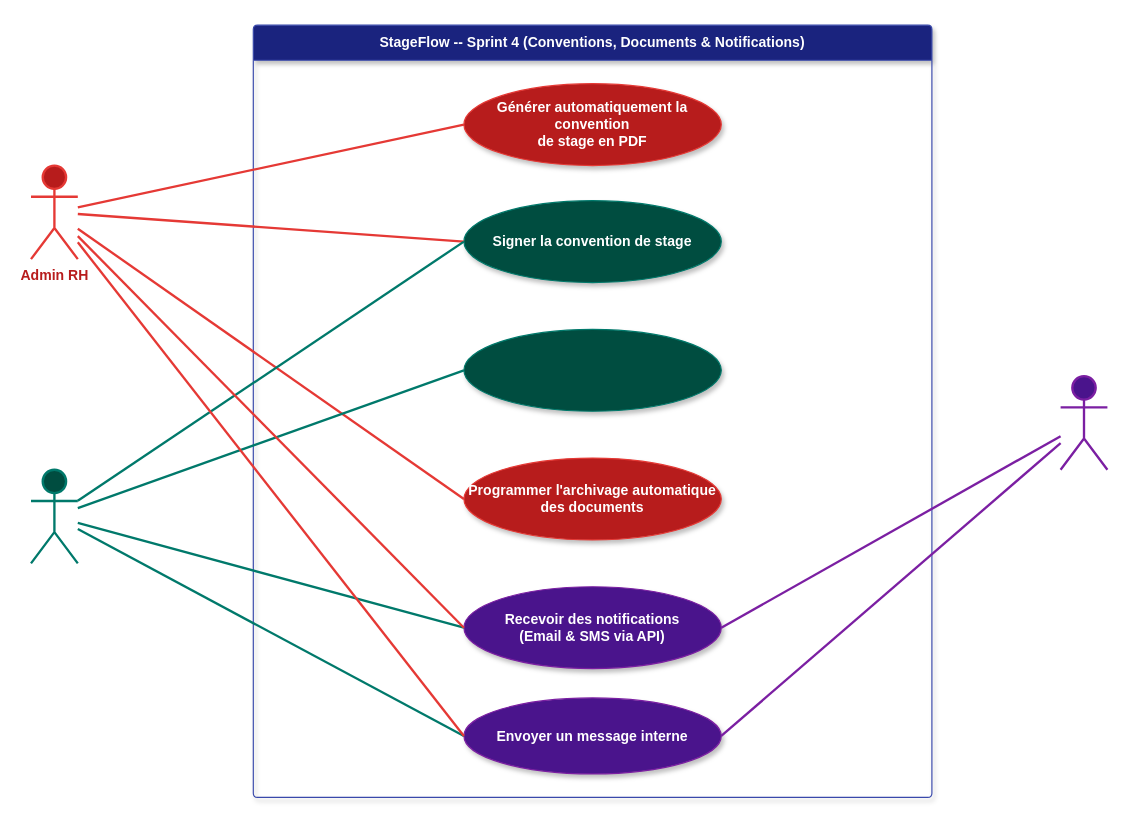
Image size: 1128x826. Some labels were removed from this diagram. The shapes that lost their labels are listed below. From the top down, each one's centre as x and y in pixels, then its label:
(x=593, y=371): Télécharger ses documents (Attestation, Convention)
(x=1083, y=422): Tuteur
(x=53, y=516): Stagiaire
